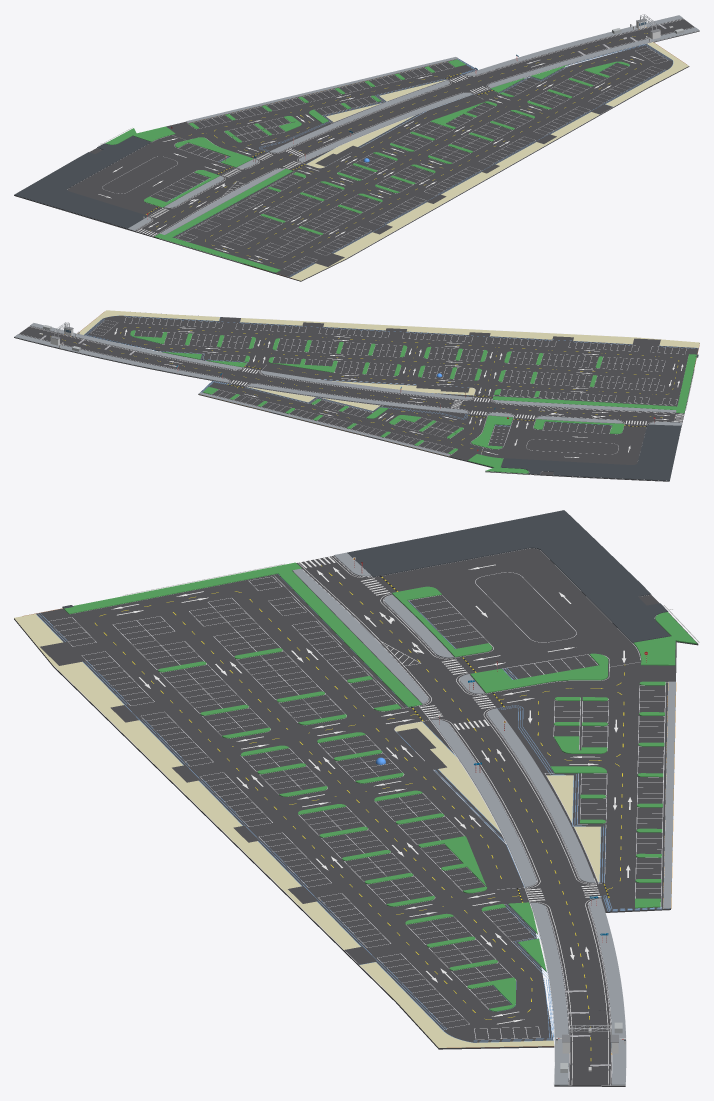
Rendered from 3d-jutsu-Bai-do-xe-bien-bao-3D-2026-11-20-08-24-05.glb.
3 renders of one model, top to bottom at view 1: azimuth 30°, elevation 25°; view 2: azimuth 150°, elevation 25°; view 3: azimuth 270°, elevation 25°, orthographic. The views are drawn at different scales.
Parts seen in each view (by area): view 1: LOT_ground_z0, LOT_grass_raised, LOT_island_VH_loai2_raised, LOT_hatch_ANGLE_yellow_pending, LOT_stall_lines_outlines, LOT_granite_sidewalk_raised, LOT_ditch_lines, LOT_arrow_marks, LOT_road_paint_white, LOT_road_paint_yellow_11, LOT_crosswalk_stripes; view 2: LOT_ground_z0, LOT_grass_raised, LOT_island_VH_loai2_raised, LOT_hatch_ANGLE_yellow_pending, LOT_stall_lines_outlines, LOT_granite_sidewalk_raised, LOT_ditch_lines, LOT_arrow_marks, LOT_road_paint_white, LOT_road_paint_yellow_11, LOT_crosswalk_stripes; view 3: LOT_ground_z0, LOT_grass_raised, LOT_island_VH_loai2_raised, LOT_stall_lines_outlines, LOT_hatch_ANGLE_yellow_pending, LOT_granite_sidewalk_raised, LOT_ditch_lines, LOT_arrow_marks, LOT_road_paint_white, LOT_road_paint_yellow_11, LOT_crosswalk_stripes.
Boxes of the visible parts, x1=… form: LOT_ground_z0: x1=14, y1=18, x2=699, y2=281; LOT_grass_raised: x1=105, y1=59, x2=629, y2=272; LOT_island_VH_loai2_raised: x1=128, y1=15, x2=699, y2=234; LOT_hatch_ANGLE_yellow_pending: x1=290, y1=42, x2=688, y2=280; LOT_stall_lines_outlines: x1=67, y1=18, x2=699, y2=272; LOT_granite_sidewalk_raised: x1=14, y1=136, x2=151, y2=228; LOT_ditch_lines: x1=169, y1=43, x2=673, y2=276; LOT_arrow_marks: x1=98, y1=56, x2=643, y2=262; LOT_road_paint_white: x1=136, y1=19, x2=692, y2=236; LOT_road_paint_yellow_11: x1=150, y1=33, x2=647, y2=263; LOT_crosswalk_stripes: x1=137, y1=75, x2=487, y2=236; LOT_ground_z0: x1=14, y1=313, x2=699, y2=481; LOT_grass_raised: x1=130, y1=330, x2=696, y2=473; LOT_island_VH_loai2_raised: x1=14, y1=323, x2=682, y2=456; LOT_hatch_ANGLE_yellow_pending: x1=78, y1=310, x2=699, y2=410; LOT_stall_lines_outlines: x1=19, y1=315, x2=686, y2=480; LOT_granite_sidewalk_raised: x1=501, y1=424, x2=681, y2=480; LOT_ditch_lines: x1=84, y1=315, x2=698, y2=426; LOT_arrow_marks: x1=114, y1=327, x2=683, y2=457; LOT_road_paint_white: x1=19, y1=327, x2=682, y2=424; LOT_road_paint_yellow_11: x1=50, y1=327, x2=678, y2=448; LOT_crosswalk_stripes: x1=231, y1=368, x2=683, y2=424; LOT_ground_z0: x1=14, y1=538, x2=698, y2=1086; LOT_grass_raised: x1=63, y1=562, x2=697, y2=1011; LOT_island_VH_loai2_raised: x1=292, y1=552, x2=675, y2=1085; LOT_stall_lines_outlines: x1=49, y1=548, x2=668, y2=1085; LOT_hatch_ANGLE_yellow_pending: x1=14, y1=614, x2=600, y2=1047; LOT_granite_sidewalk_raised: x1=347, y1=510, x2=670, y2=642; LOT_ditch_lines: x1=36, y1=574, x2=669, y2=1042; LOT_arrow_marks: x1=111, y1=564, x2=631, y2=1024; LOT_road_paint_white: x1=298, y1=556, x2=608, y2=1084; LOT_road_paint_yellow_11: x1=95, y1=565, x2=624, y2=1060; LOT_crosswalk_stripes: x1=299, y1=556, x2=600, y2=901.
Bounding box in the file's own units: 264 × 6.1 × 133.
